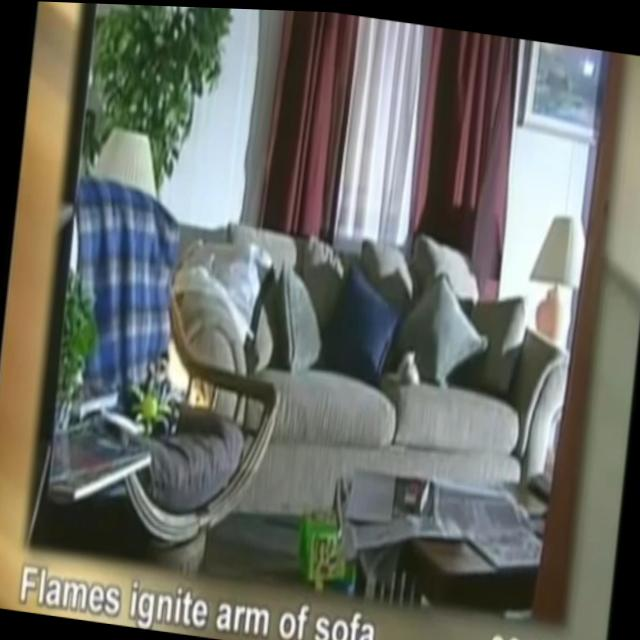fire: (161, 328, 220, 412)
